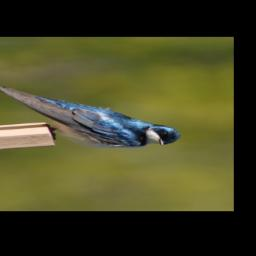Swallow: (0, 79, 187, 154)
